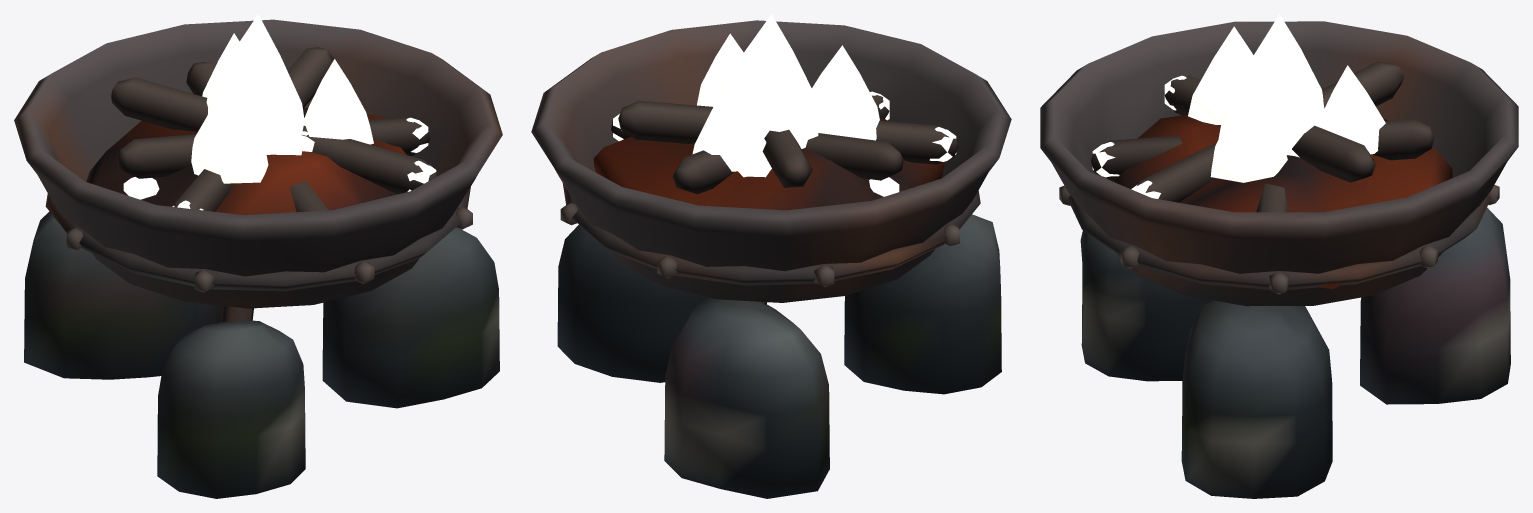
File: dg-tidepool-brazier.glb
3 views of the same model, side by side, from view 1: azimuth 30°, elevation 25°; view 2: azimuth 150°, elevation 25°; view 3: azimuth 270°, elevation 25° (orthographic).
Visible parts, largest first — view 1: body, hot; view 2: body, hot; view 3: body, hot.
Part boxes in pixels (left/top/right/bottom): body: left=14, top=19, right=502, bottom=498; hot: left=123, top=14, right=436, bottom=210; body: left=531, top=20, right=1011, bottom=498; hot: left=613, top=14, right=956, bottom=196; body: left=1040, top=21, right=1518, bottom=498; hot: left=1092, top=14, right=1385, bottom=198.
Bounding box in the file's own units: 0.8546 × 0.7414 × 0.8435.
